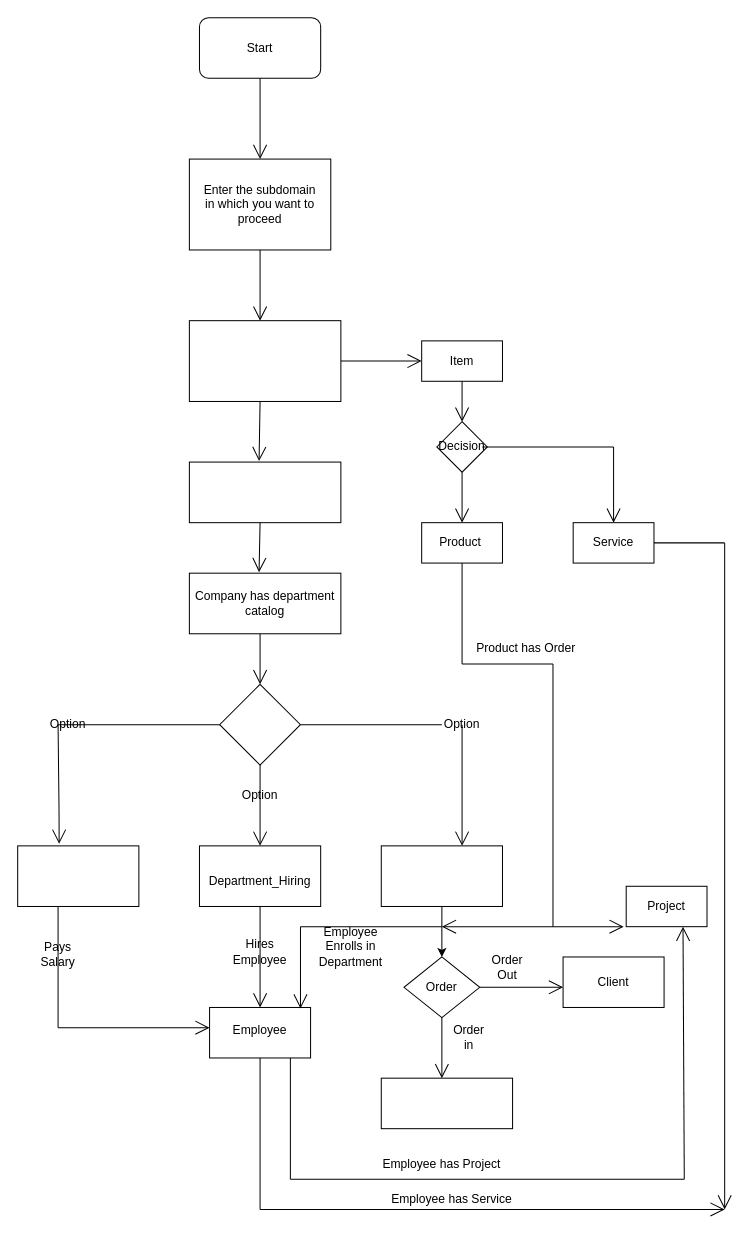
This 756x1241 diagram has some shape labels left out. Each missing label, with the centre of its shape:
Create an admin for the company: the point at 264,492
Department: the point at 259,724
Department_Finance: the point at 78,875
Department_others: the point at 441,875
Select the company name from the sub domain: the point at 264,360
Supplier: the point at 446,1103
